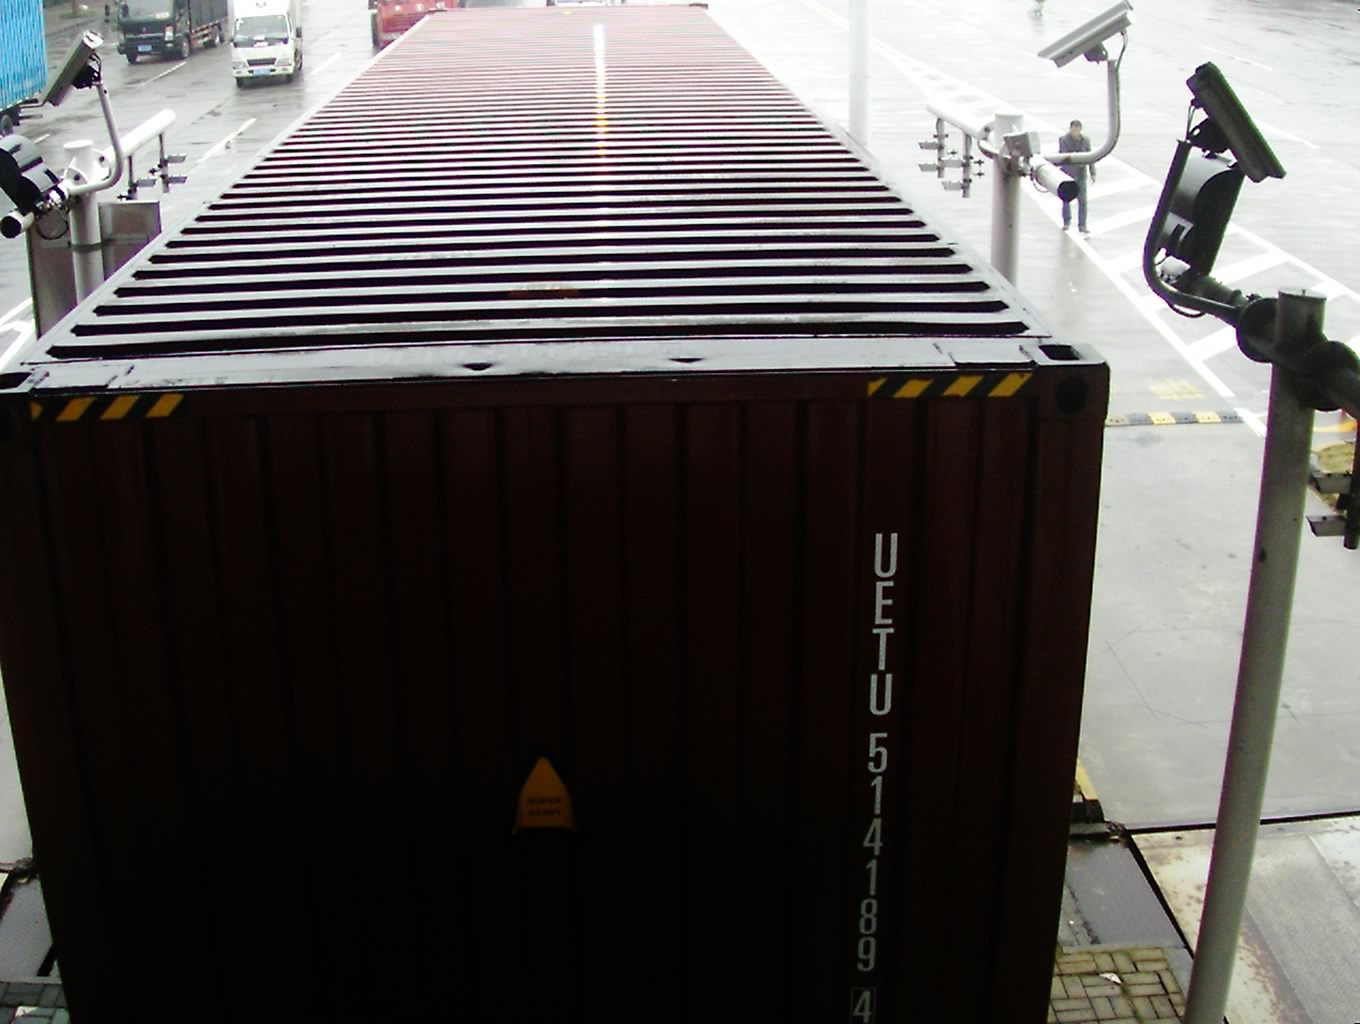words: (851, 520, 902, 1024)
